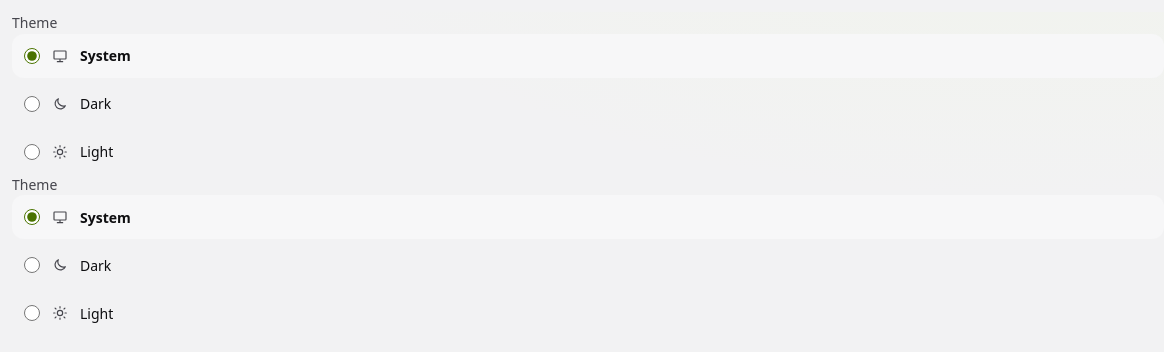
Test: ThemeOptions › gives each group its own radio name and follows the shared preference
The image size is (1164, 352).
Expected: the number of elements "Theme" is 2, [12,12,1163,174]; [12,174,1163,335]
Click the 2nd radio button labelled "Light". click: coordinates (32, 313)
box: [24,305,40,321]
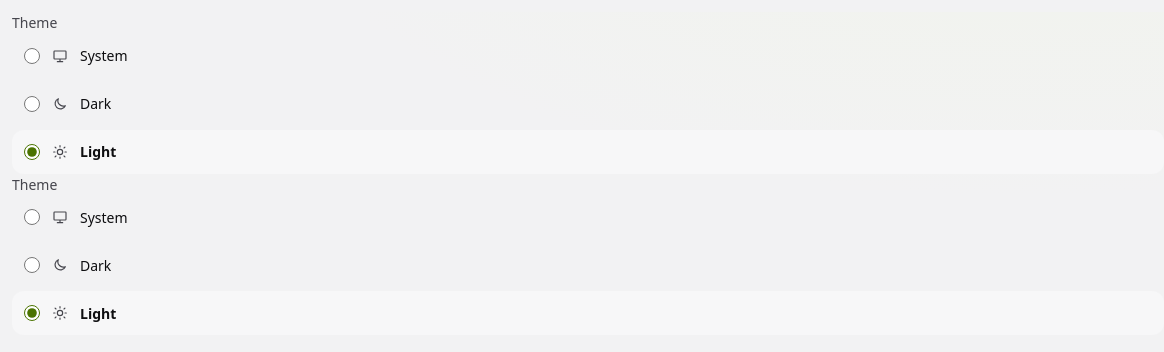
Now the 1st radio button labelled "Light" is checked, box [24,144,40,160]
